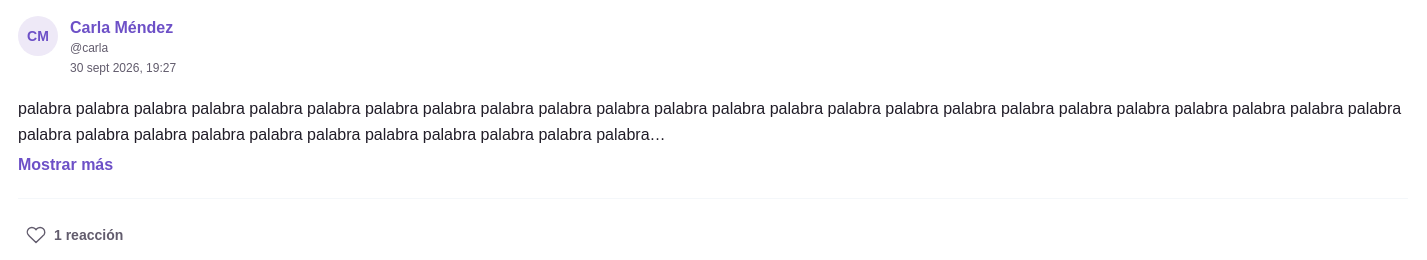
Test: shortens long texts and expands them in place
The width and height of the screenshot is (1427, 260).
Click the button "Mostrar más".
click(66, 165)  # box [18,152,113,178]
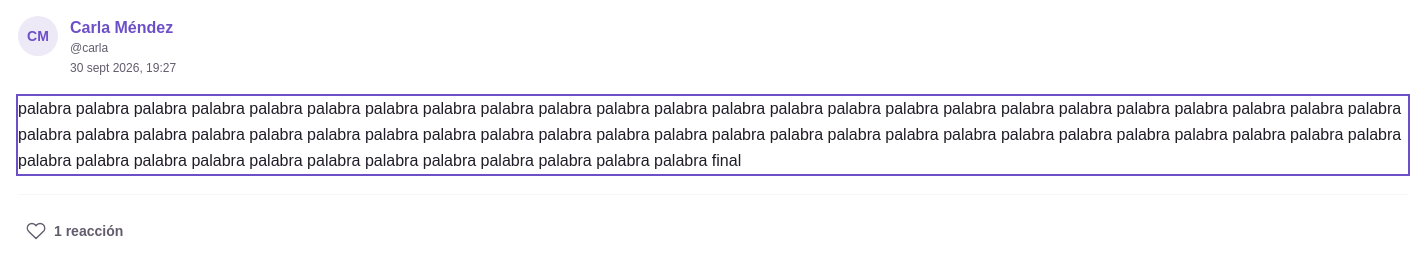
Now the text "final" is shown, box [18,100,1406,169]
Now the button "Mostrar más" is gone
